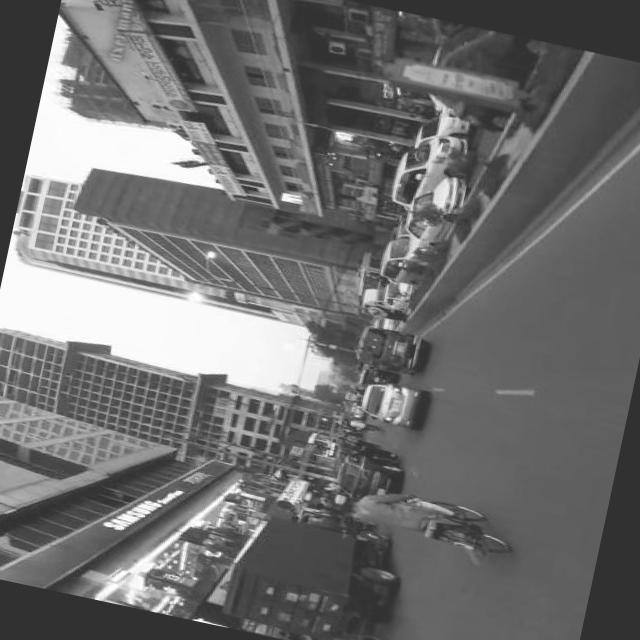bus: (351, 252, 384, 298)
car: (398, 169, 468, 254), (328, 447, 399, 508), (353, 377, 421, 432), (409, 102, 469, 156), (378, 280, 408, 312), (356, 365, 390, 389), (370, 316, 392, 331)
truck: (216, 496, 402, 640), (384, 126, 466, 218), (350, 323, 421, 378), (374, 232, 424, 286), (356, 286, 376, 310)
